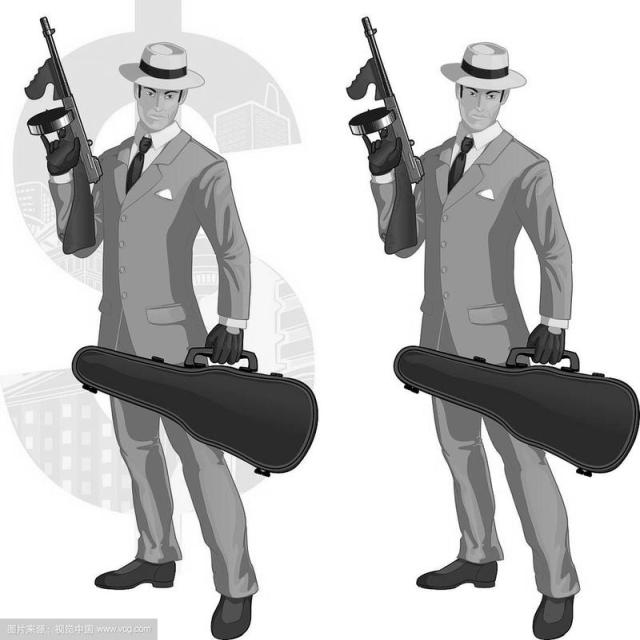gun: (348, 15, 425, 184), (27, 15, 103, 184)
person with a gun: (344, 6, 588, 640), (16, 9, 261, 640)
